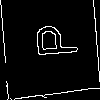P: (25, 22, 78, 59)
